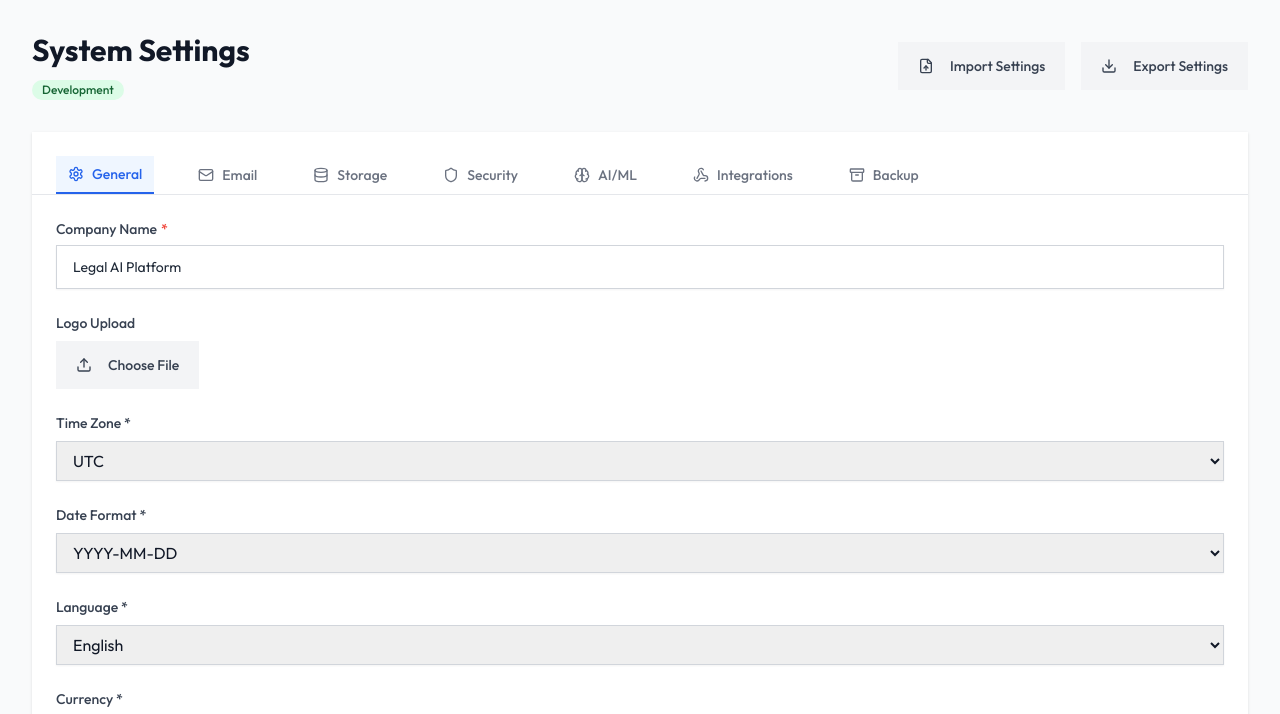
Test: SystemSettingsPage › Storage Settings Tab › should show different fields based on storage provider
Click the tab "Storage". click: (350, 175)
box: left=301, top=156, right=399, bottom=194
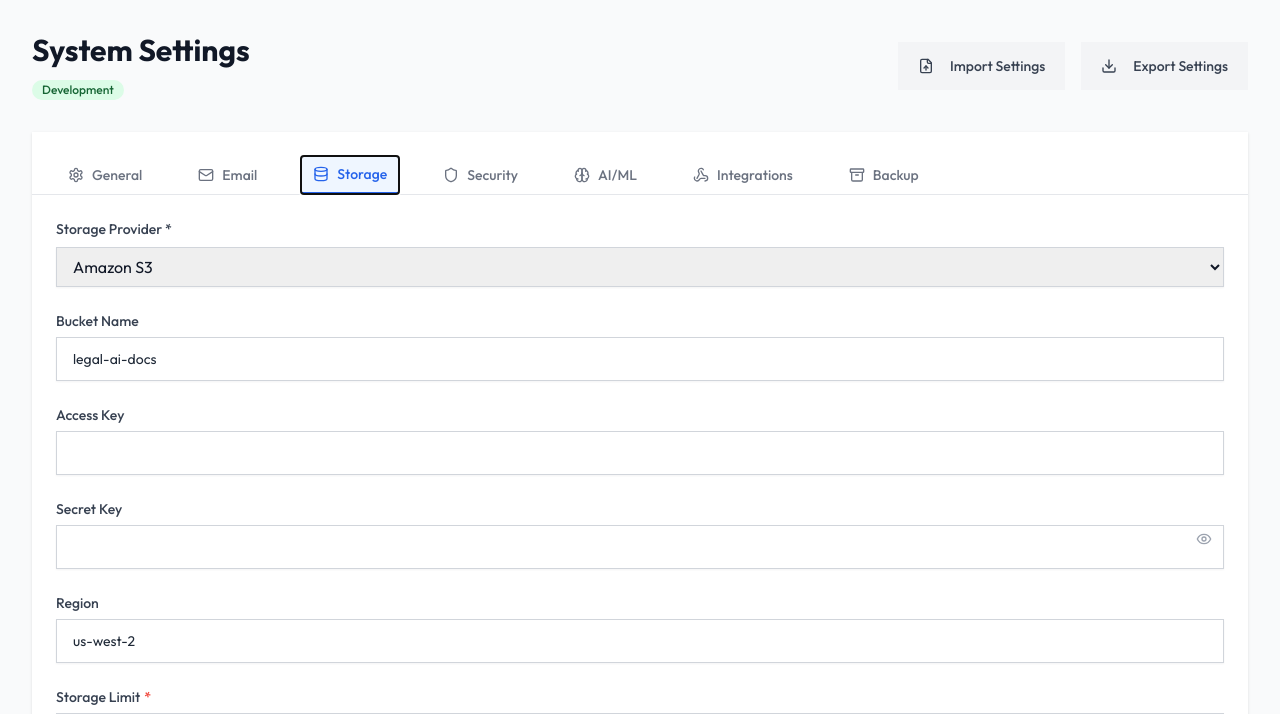
Select "Local Storage" in the dropdown labelled "Storage Provider *". click: (640, 267)
box: left=56, top=247, right=1224, bottom=287
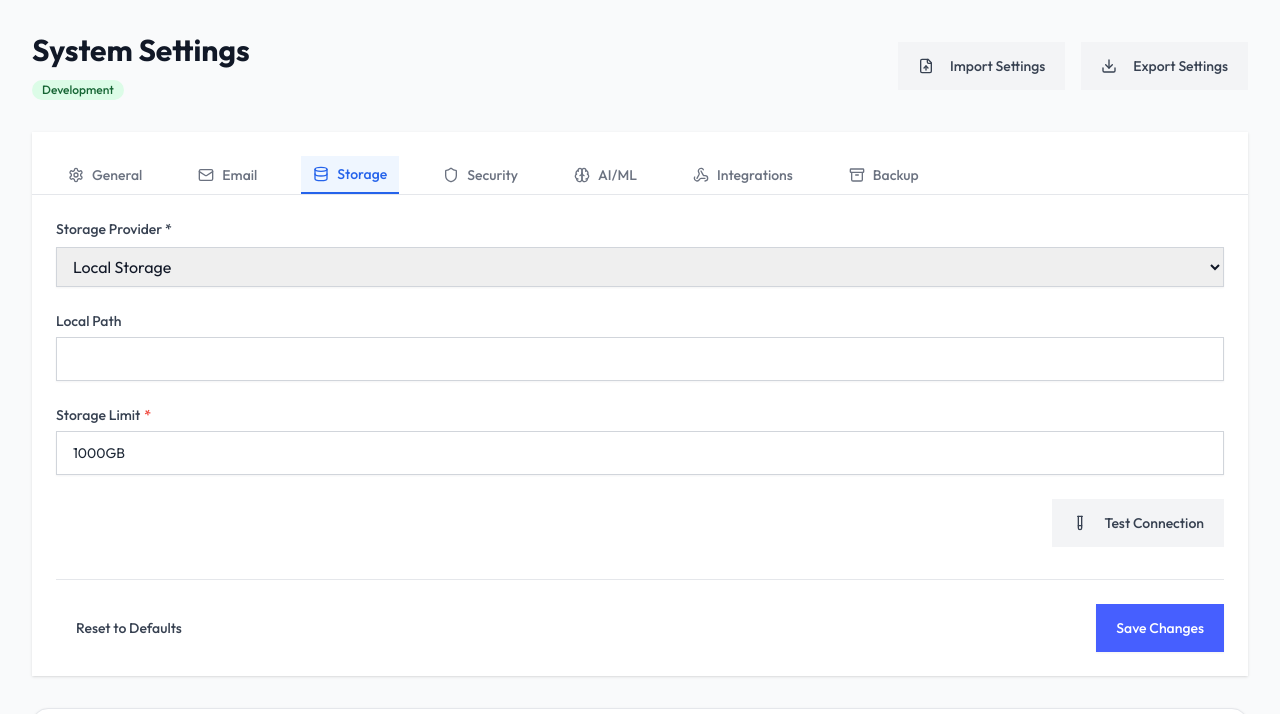
Check: the label labelled "Bucket Name" is gone
Check: the field labelled "Local Path" is shown, box left=56, top=337, right=1224, bottom=381
